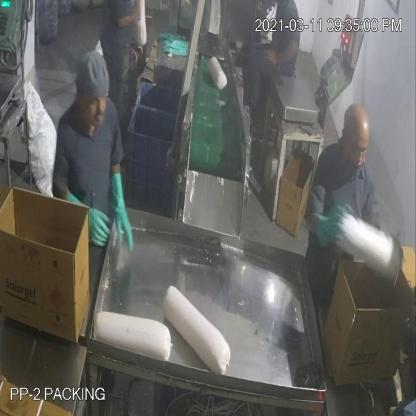glove: (310, 205, 353, 250)
no_glove: (261, 35, 303, 72), (109, 1, 151, 38)
